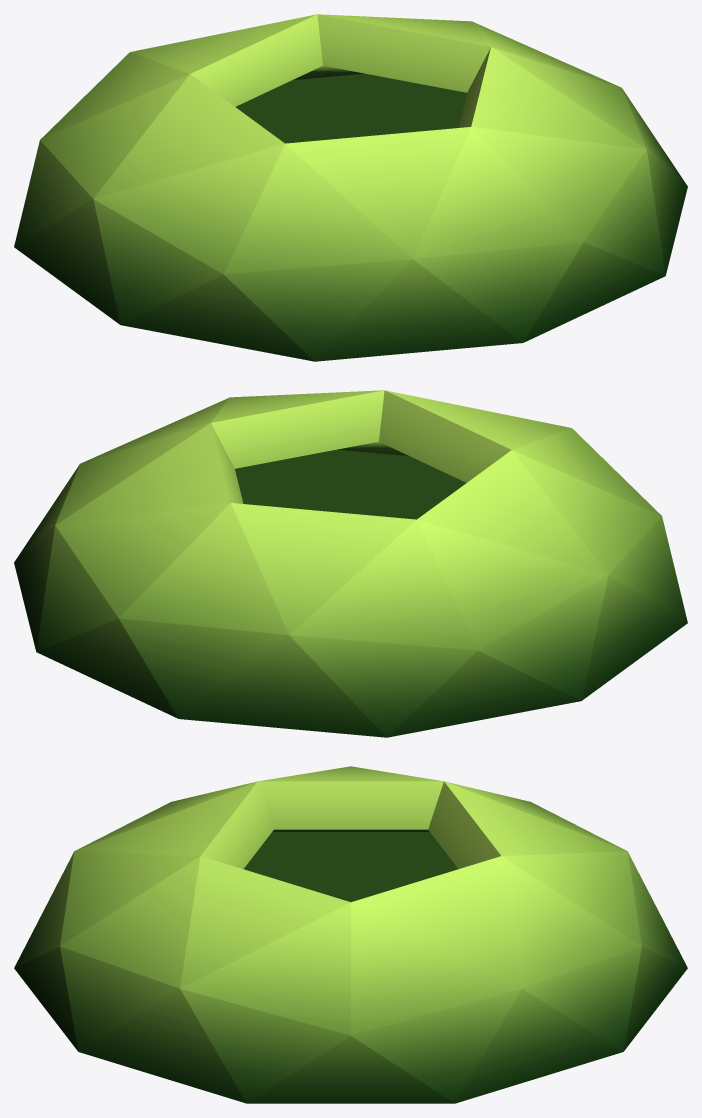
Rendered from TreeBase_Bush_YellowGreen.fbx.
The picture shows the model from 3 angles, top to bottom: view 1: azimuth 30°, elevation 25°; view 2: azimuth 150°, elevation 25°; view 3: azimuth 270°, elevation 25°; orthographic projection. The views are drawn at different scales.
Visible parts, largest first — view 1: TreeBase_Bush_YellowGreen; view 2: TreeBase_Bush_YellowGreen; view 3: TreeBase_Bush_YellowGreen.
Part boxes in pixels (<box>): TreeBase_Bush_YellowGreen: <box>14,14,687,361</box>; TreeBase_Bush_YellowGreen: <box>14,390,687,737</box>; TreeBase_Bush_YellowGreen: <box>14,766,687,1103</box>.
Size of the model in its own units: 265 by 60.58 by 279.
